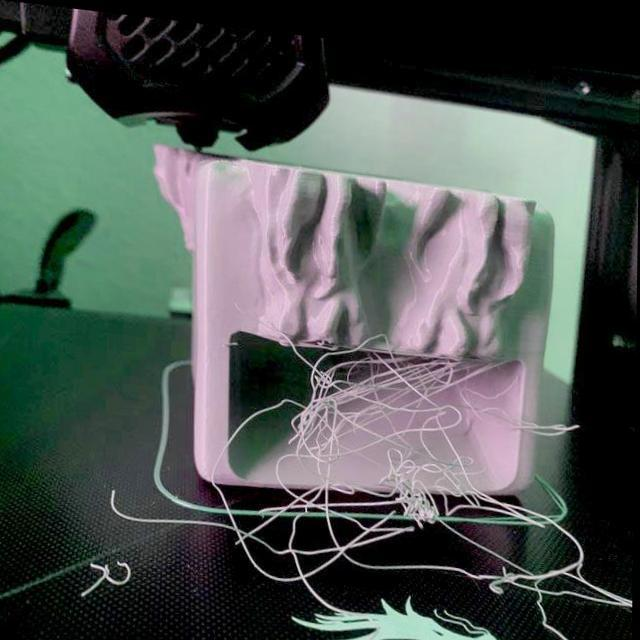spaghetti: (206, 304, 585, 609)
